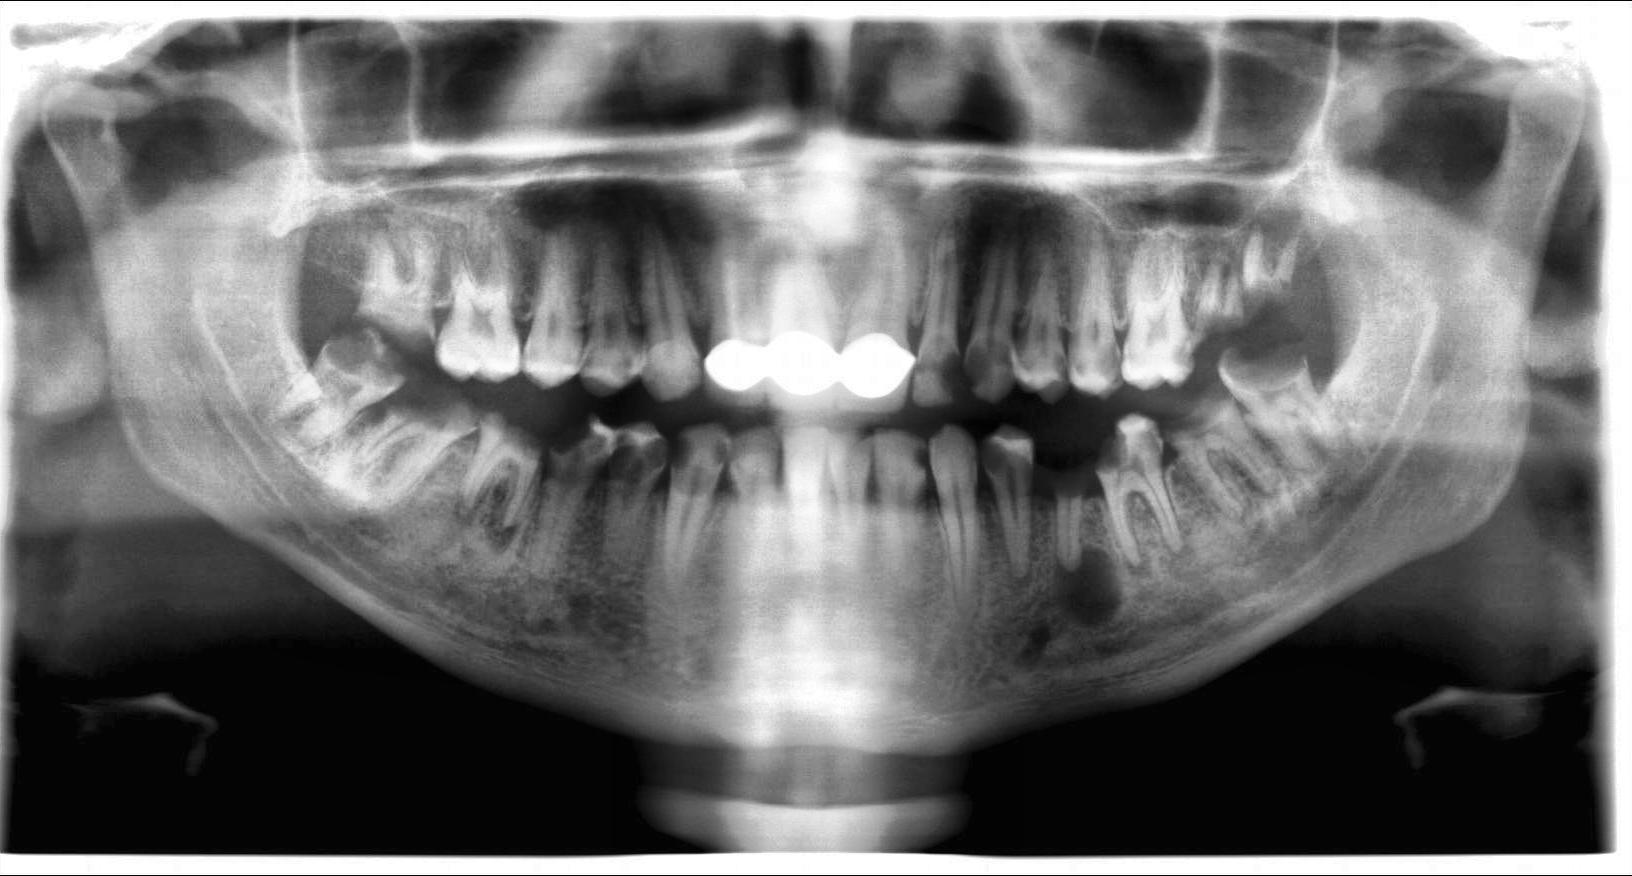radikuler: (1051, 543, 1125, 632)
